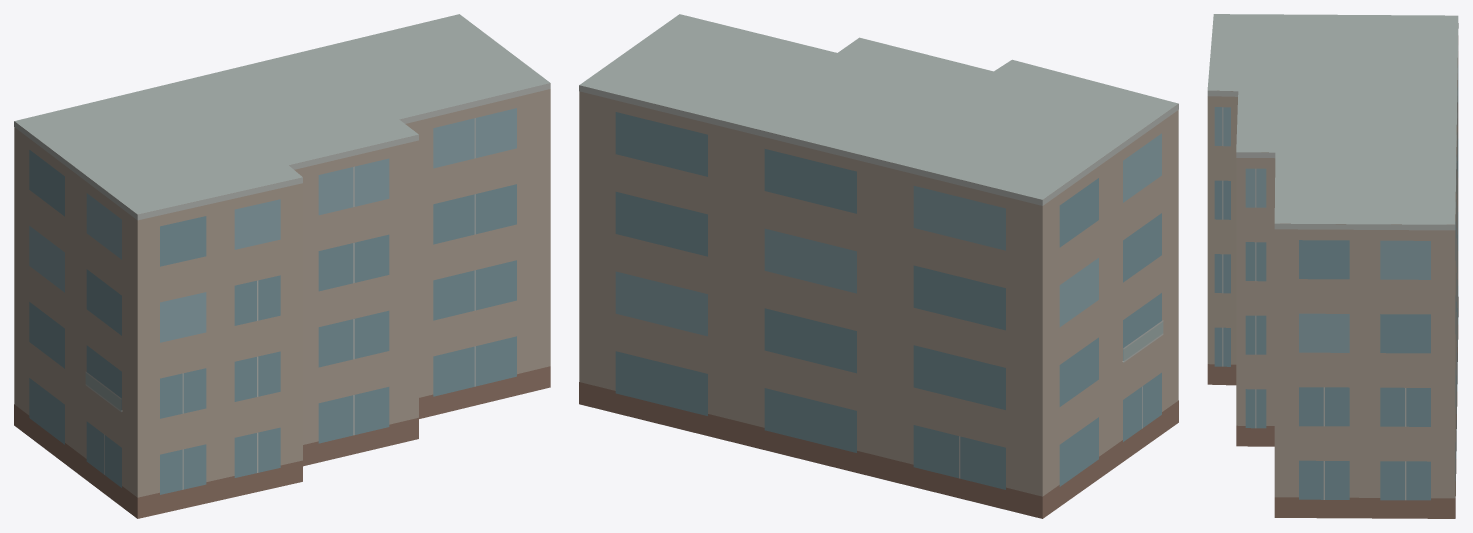
Rendered from survey-upis-32988877.glb.
The picture shows the model from 3 angles, left to right: view 1: azimuth 30°, elevation 25°; view 2: azimuth 150°, elevation 25°; view 3: azimuth 270°, elevation 25°; orthographic projection. The views are drawn at different scales.
Parts seen in each view (by area): view 1: survey-upis-32988877.tmp; view 2: survey-upis-32988877.tmp; view 3: survey-upis-32988877.tmp.
Boxes of the visible parts, x1,y1,x2,y2 form: survey-upis-32988877.tmp: [14, 14, 550, 518]; survey-upis-32988877.tmp: [579, 14, 1178, 518]; survey-upis-32988877.tmp: [1207, 14, 1458, 518].
Bounding box in the file's own units: 19.55 × 12.7 × 9.83.
